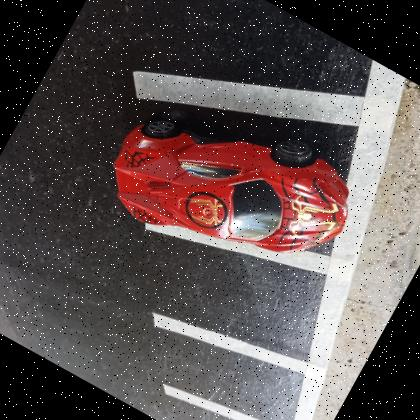Car: (113, 113, 350, 253)
